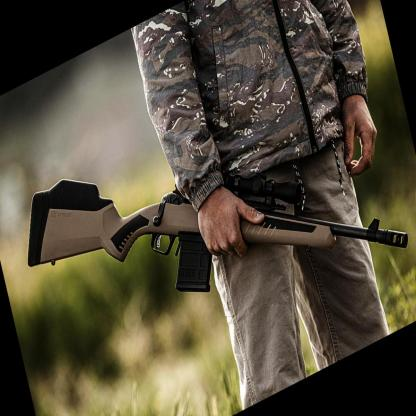rifle: (12, 14, 416, 416)
